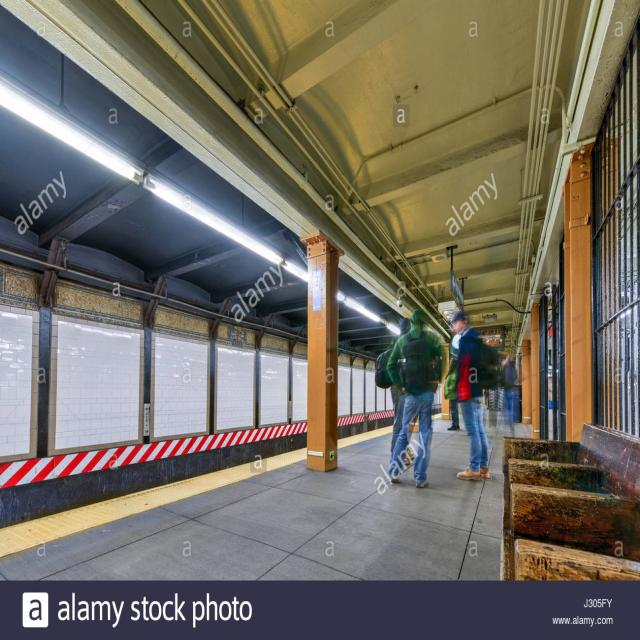body: (382, 305, 447, 489), (450, 308, 504, 483), (387, 315, 415, 467), (499, 351, 521, 432), (441, 356, 463, 432), (482, 389, 491, 409)
